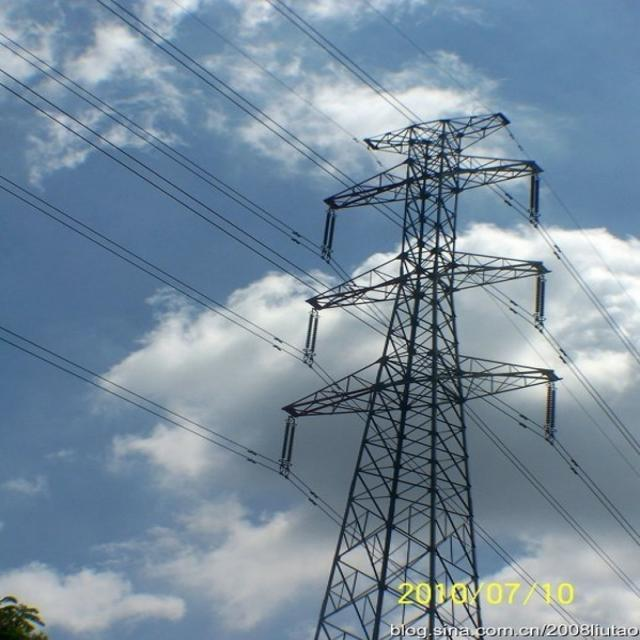non-critical vegetation: (281, 106, 554, 588)
